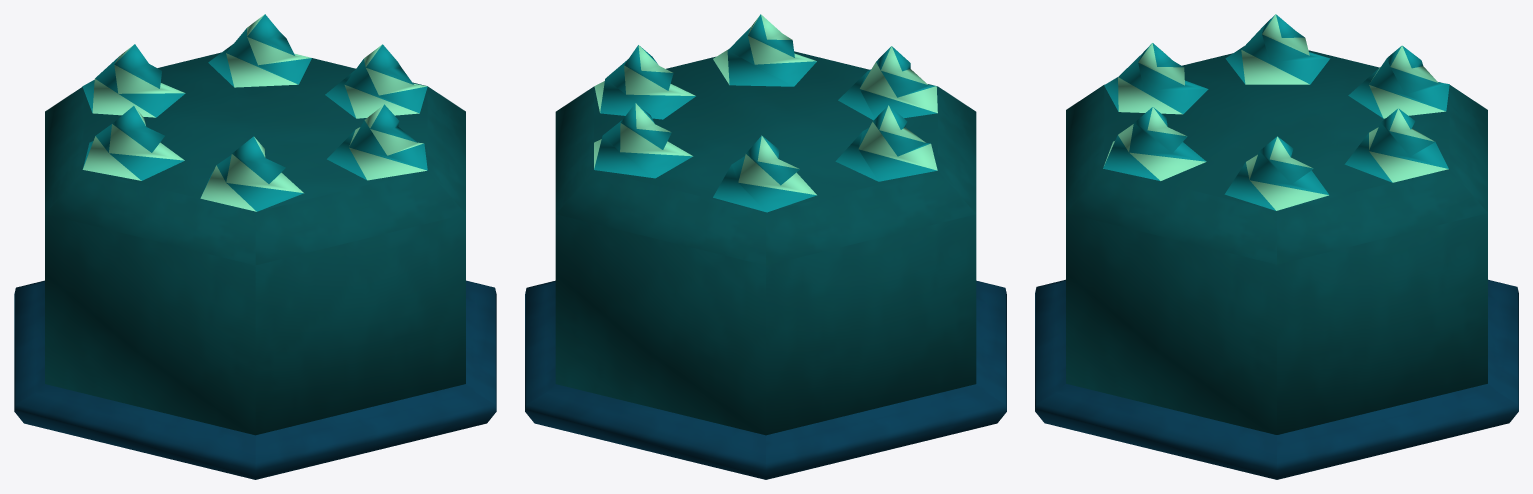
File: Cake_B_04.FBX
3 views of the same model, side by side, from view 1: azimuth 30°, elevation 25°; view 2: azimuth 150°, elevation 25°; view 3: azimuth 270°, elevation 25° (orthographic).
Visible parts, largest first — view 1: Cake_2; view 2: Cake_2; view 3: Cake_2.
Boxes of the visible parts, <box> form: Cake_2: <box>14,14,496,479</box>; Cake_2: <box>525,14,1006,479</box>; Cake_2: <box>1035,14,1518,479</box>.
Size of the model in its own units: 117 by 67.83 by 101.
